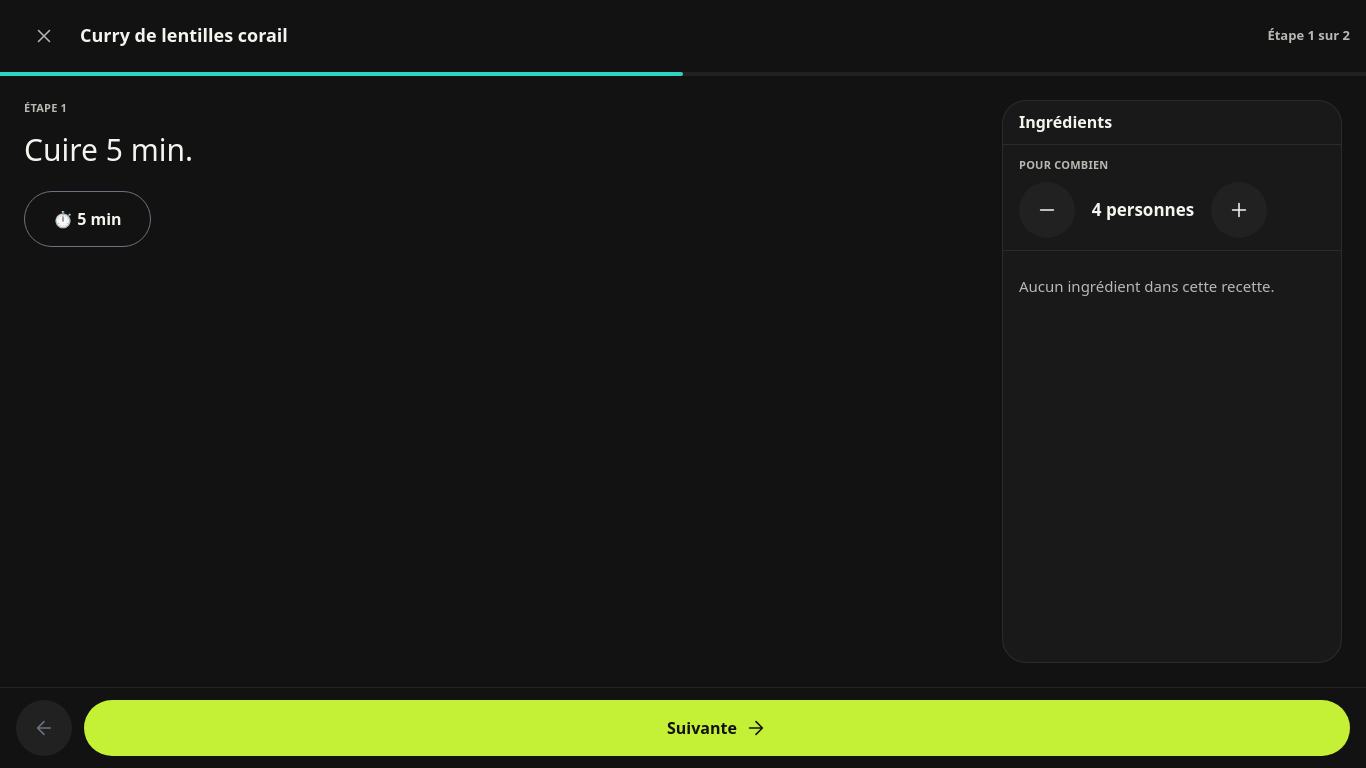
Scenario: timers in cooking mode › runs several at once, each naming its step
Click the button "⏱ 5 min". click: click(87, 218)
box: [24,190,151,246]
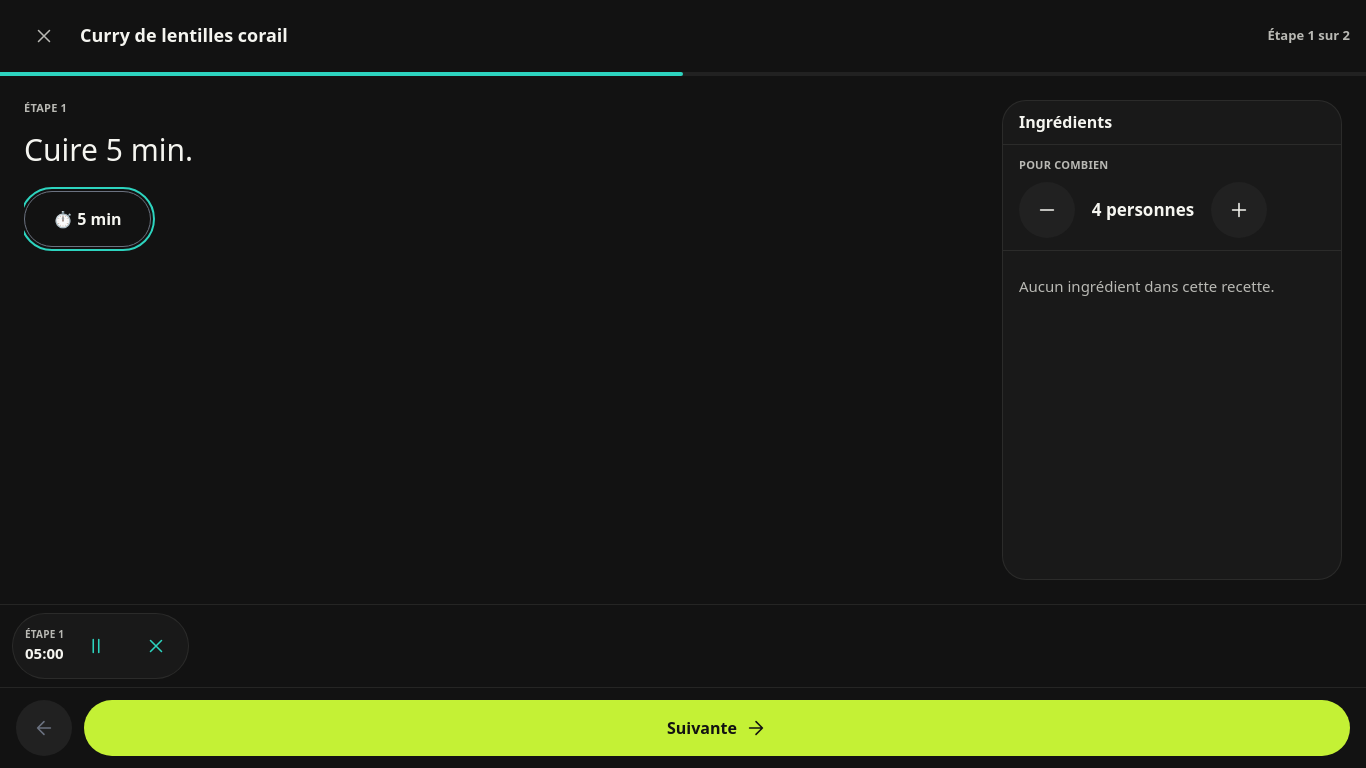
Click the button "Suivante". click: click(717, 728)
box: [84,700,1350,756]
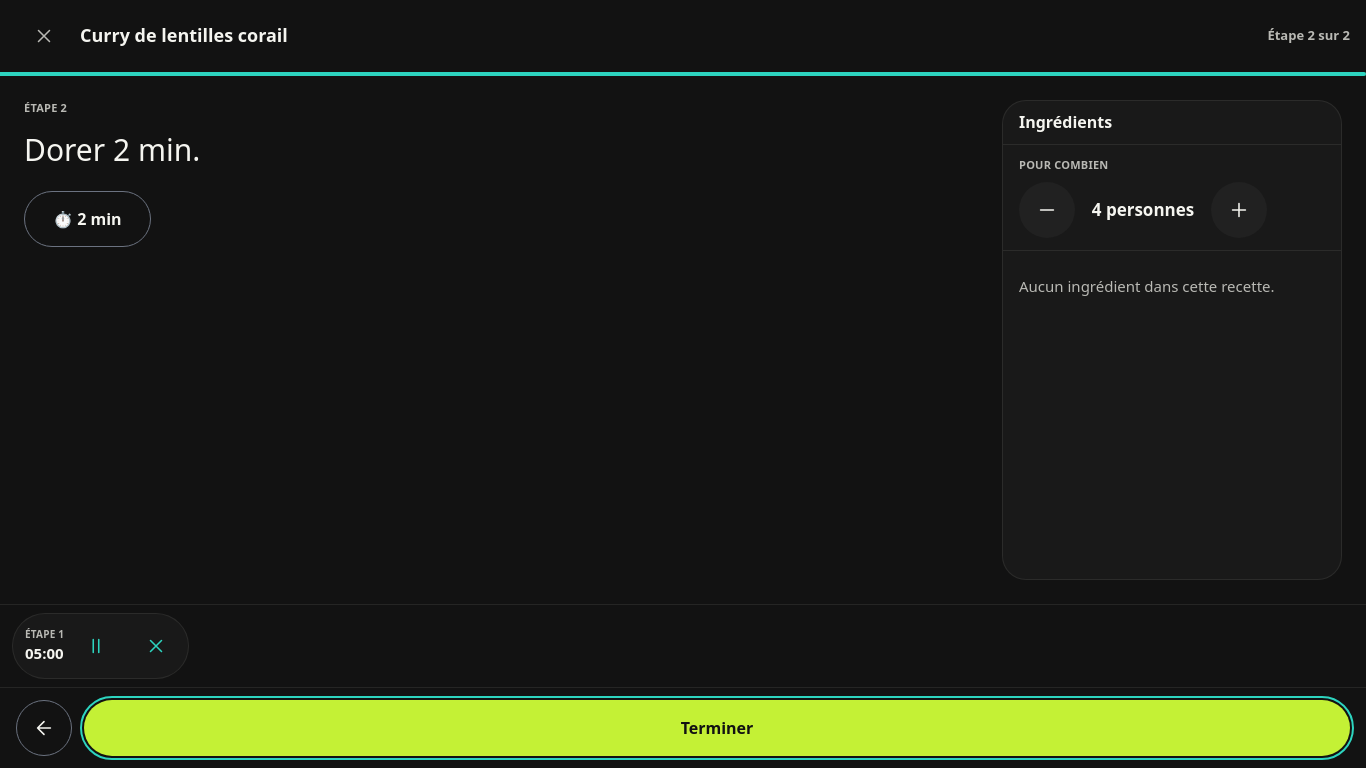
Click the button "⏱ 2 min". click: click(87, 218)
box: [24,190,151,246]
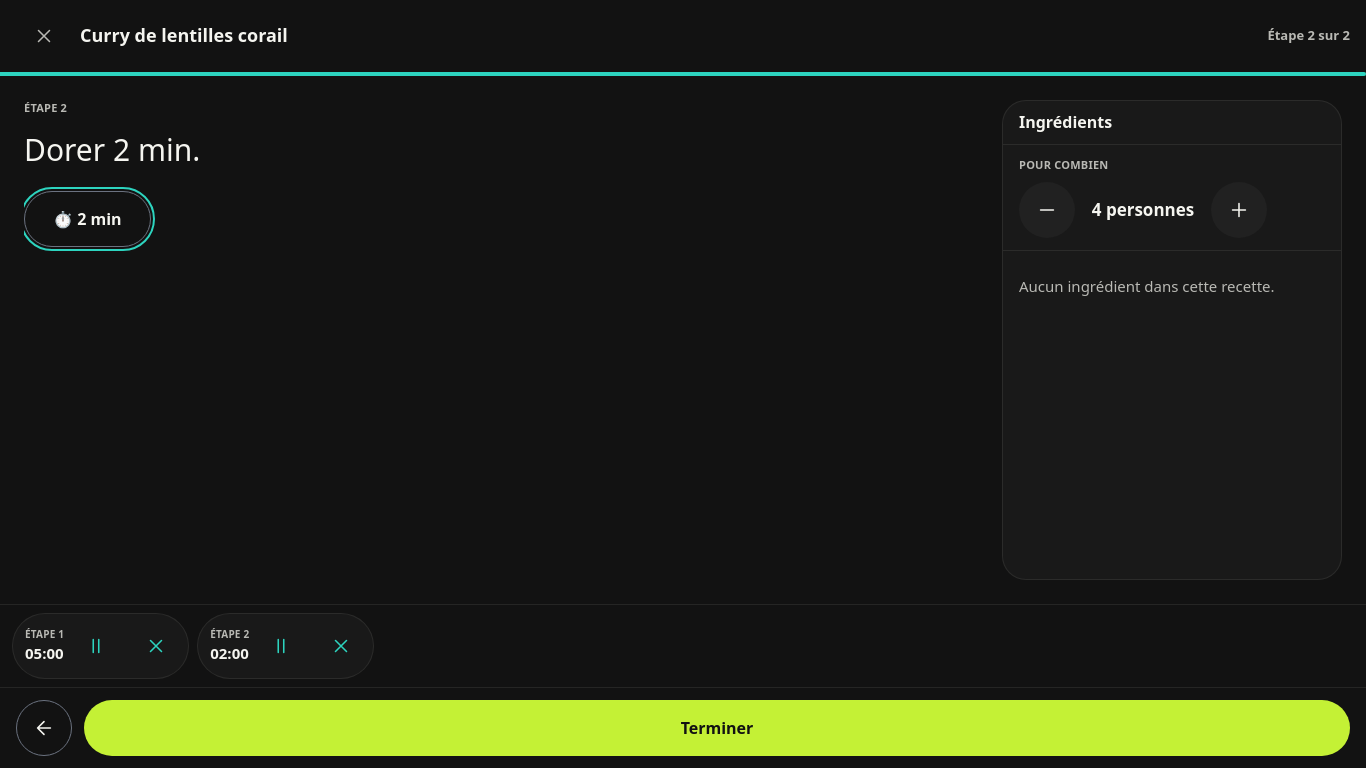
Expected: the list item with test id "cook-timer" shows "Étape 1", [25,627,64,641]
Expected: the number of list items with test id "cook-timer" is 2, [12,613,189,679]; [197,613,374,679]
Expected: the list item with test id "cook-timer" shows "Étape 2", [210,627,249,641]
Click the button named "Annuler le minuteur de l'étape 1". click: click(156, 646)
box: [128,618,184,674]
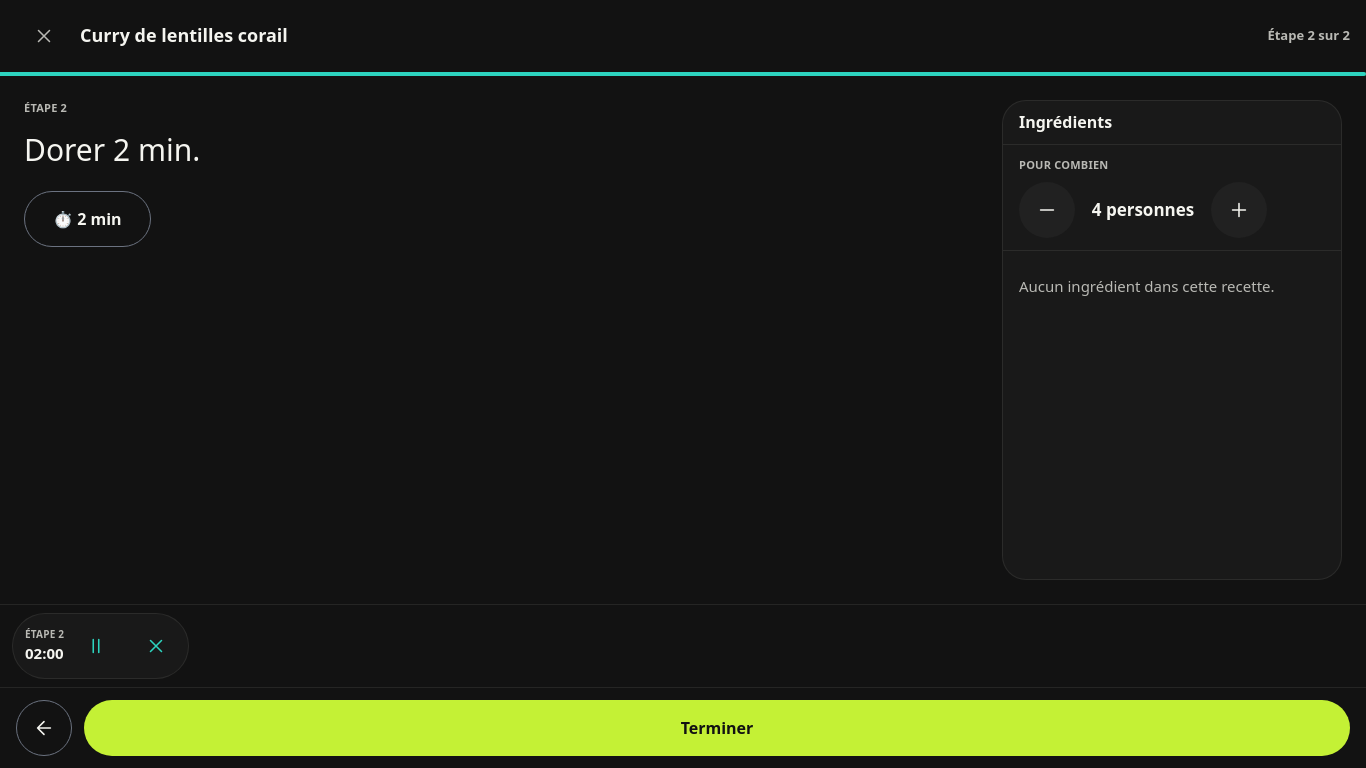
Expected: the number of list items with test id "cook-timer" is 1, [12,613,189,679]
